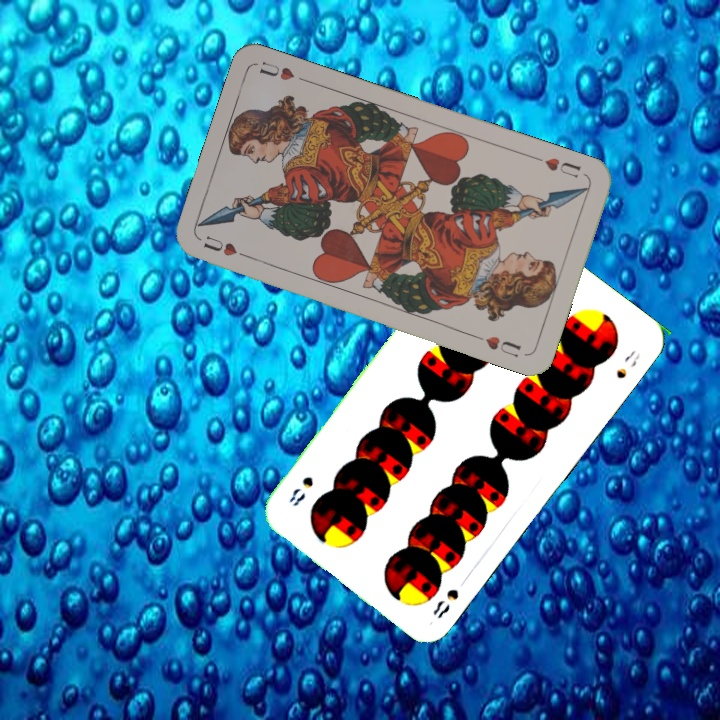HU: (199, 231, 254, 262), (540, 153, 583, 181)
S8: (428, 584, 462, 621)
